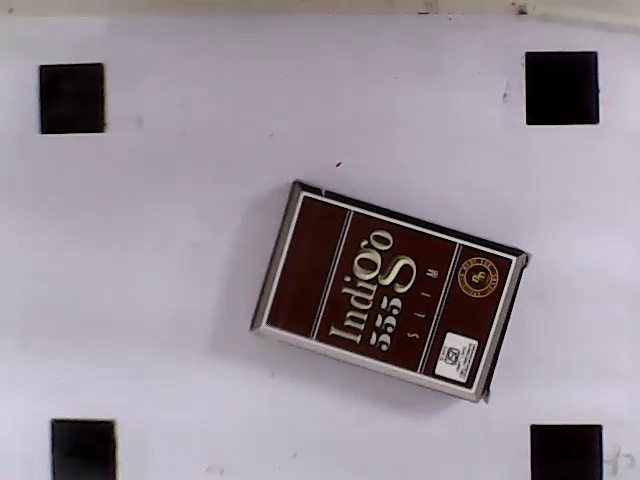BEX: (263, 194, 512, 391)
